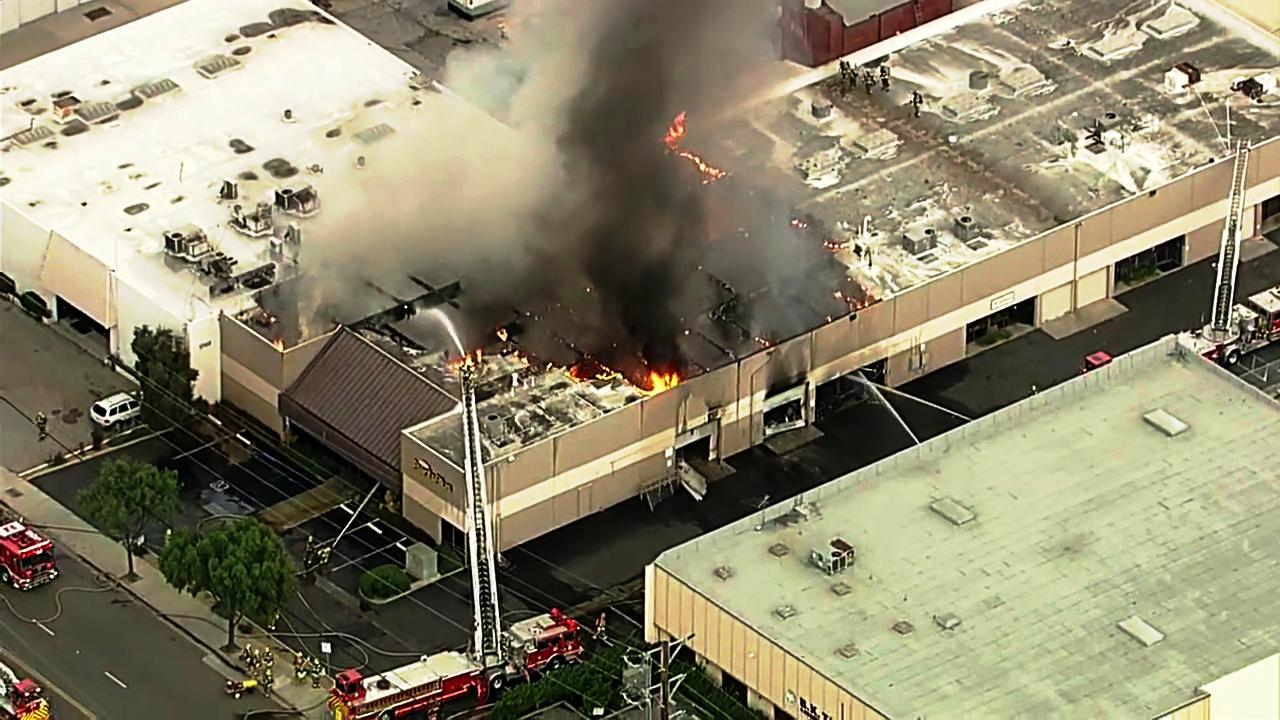smoke: (577, 0, 703, 338)
